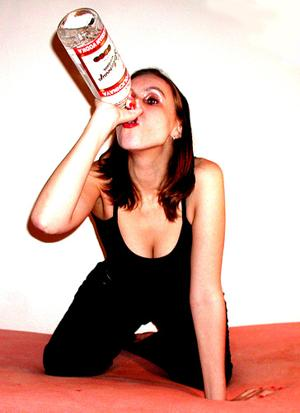person: (29, 68, 264, 407)
